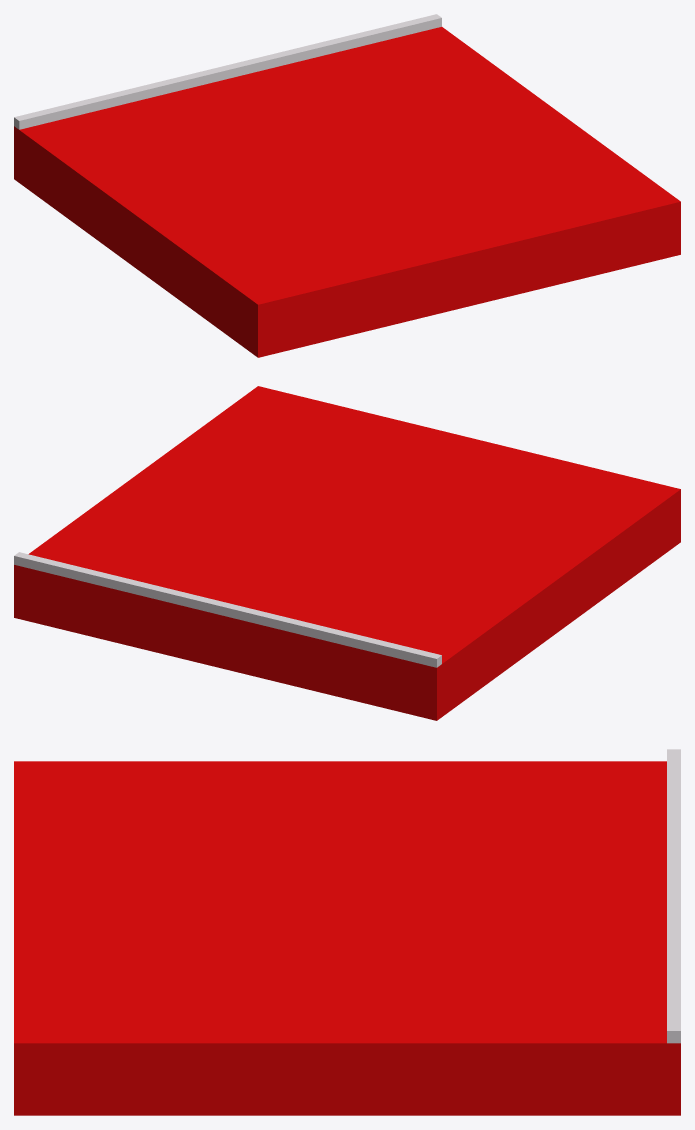
File: 1side_border.glb
The picture shows the model from 3 angles, top to bottom: view 1: azimuth 30°, elevation 25°; view 2: azimuth 150°, elevation 25°; view 3: azimuth 270°, elevation 25°; orthographic projection. The views are drawn at different scales.
Visible parts, largest first — view 1: 1side_border, center.007; view 2: 1side_border, center.007; view 3: 1side_border, center.007.
Boxes of the visible parts, left/top/right/bottom form: 1side_border: left=14, top=27, right=680, bottom=357; center.007: left=14, top=14, right=441, bottom=129; 1side_border: left=14, top=386, right=680, bottom=720; center.007: left=14, top=552, right=441, bottom=667; 1side_border: left=14, top=761, right=680, bottom=1115; center.007: left=667, top=749, right=680, bottom=1043.
Size of the model in its own units: 1 by 0.14 by 1.
